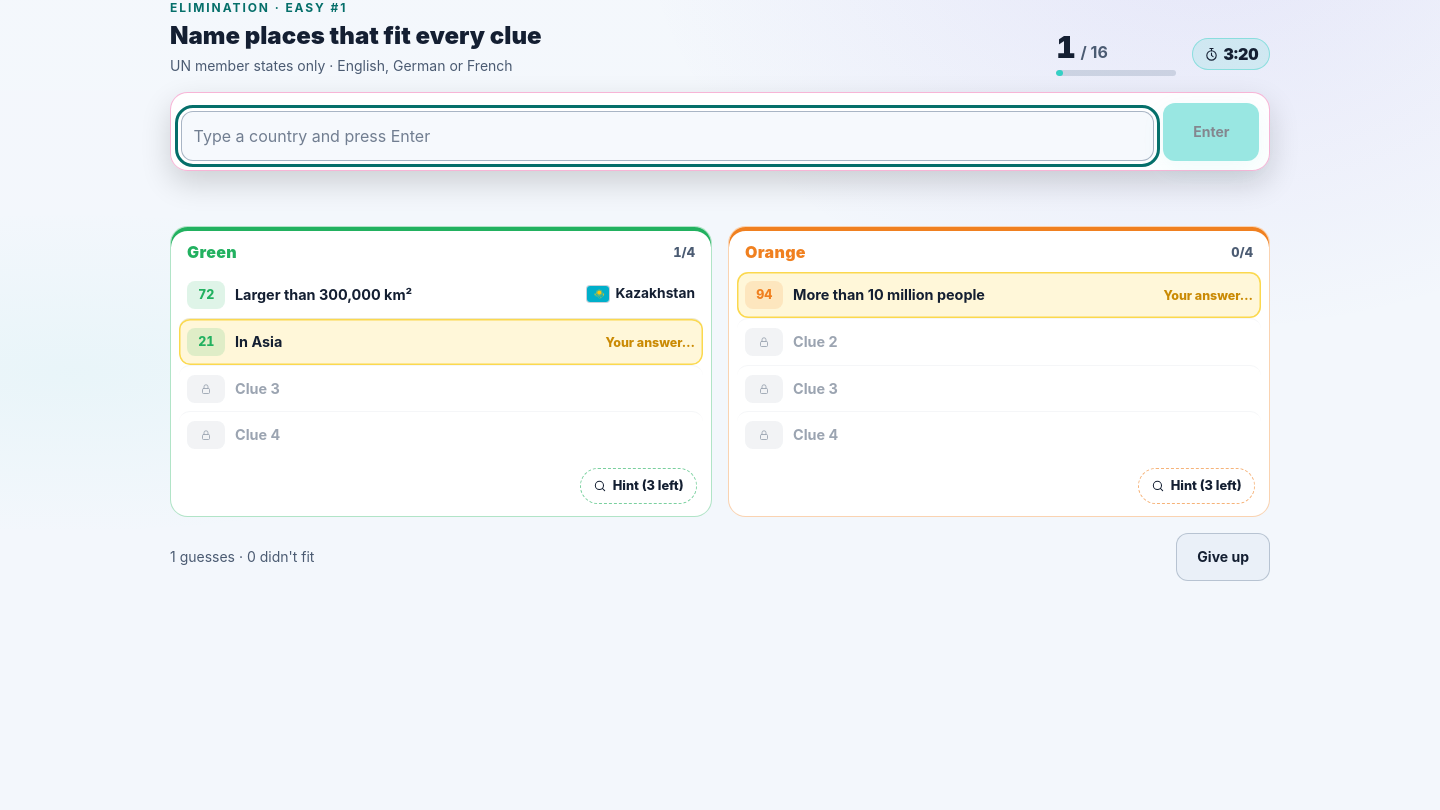
Test: a confirmed hint shows only the open clue's list, read-only, and marks the round
This screenshot has width=1440, height=810.
Step 1. Click the button with aria-label "Use a hint for Green" → (638, 486), box [580,468,697,504]
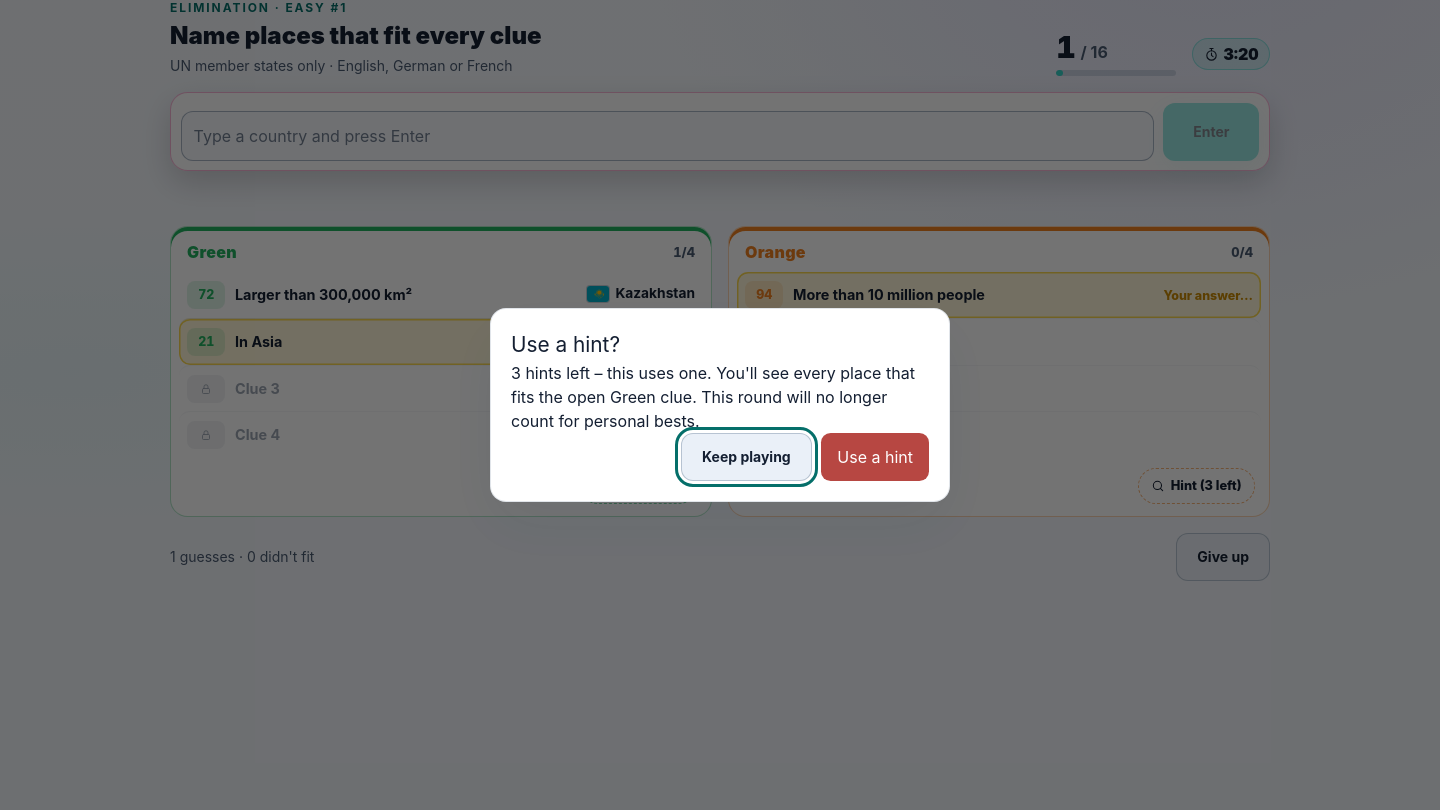
Step 2. Click the button "Use a hint" → (875, 457), box [821,433,929,481]
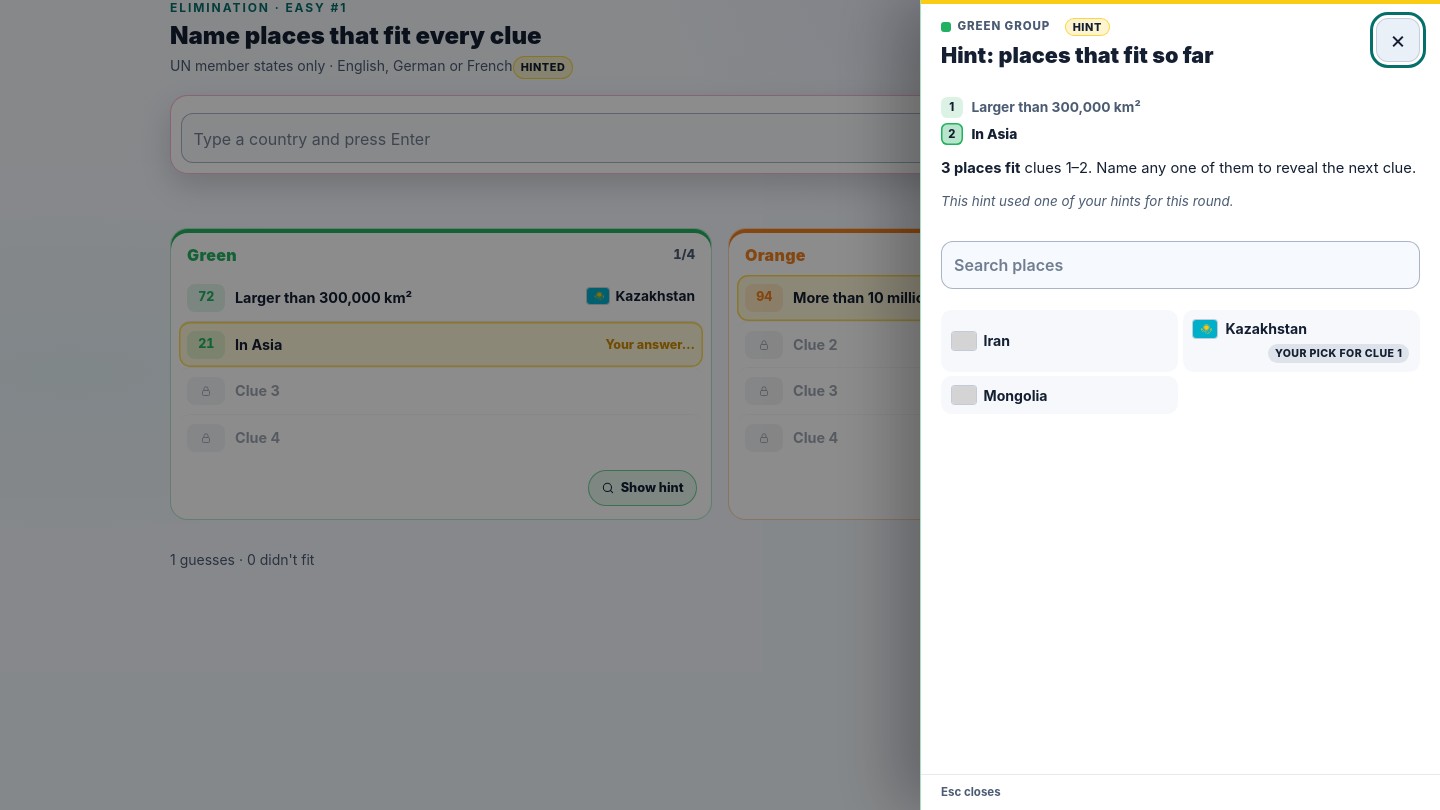
Check: the text "Hint" is shown, box [1065,18,1110,36]
Check: the text "3 places fit" is shown, box [941,159,1020,177]
Check: the text "Mongolia" is shown, box [984,384,1048,406]
Step 3. Press Escape in the button named "Close", box [1376,18,1420,62]
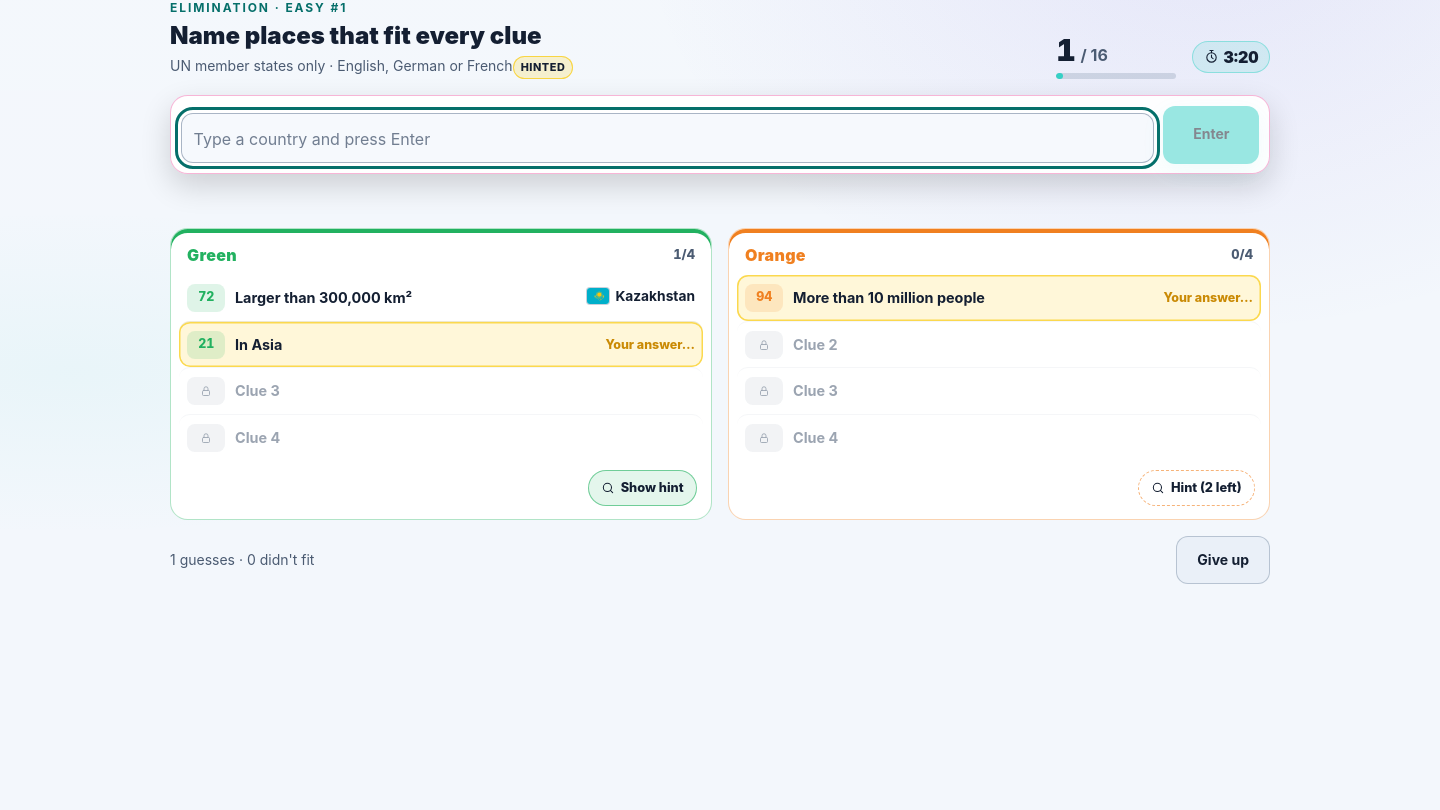
Check: the text "Hinted" is shown, box [513,56,573,78]
Check: the dialog is gone
Note: Re-opening the bought hint is free: no question, no second request.
Step 4. Click the button with aria-label "Show the Green hint again (free)" → (642, 488), box [588,470,697,506]
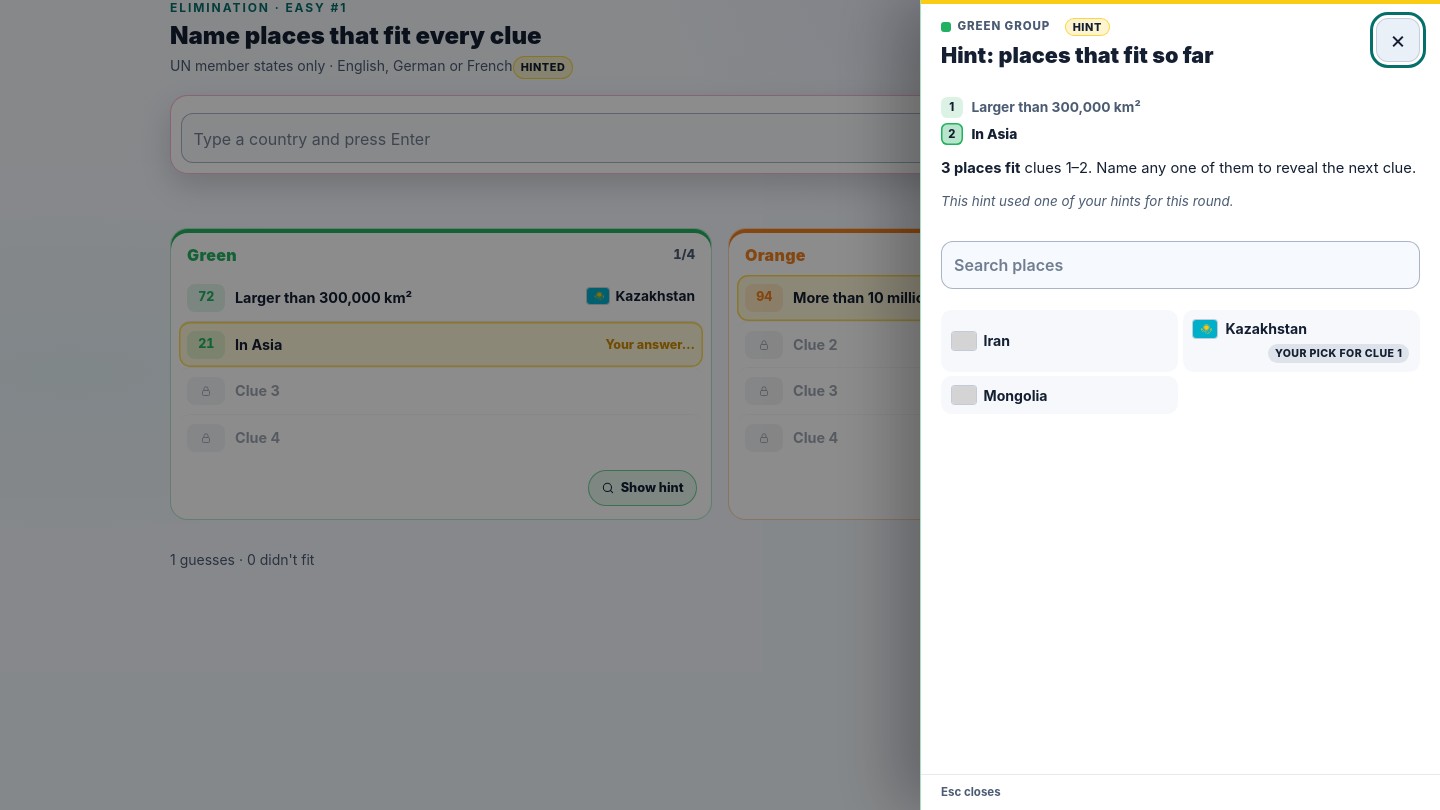
Check: the dialog "Hint: places that fit so far" is shown, box [920,0,1439,809]
